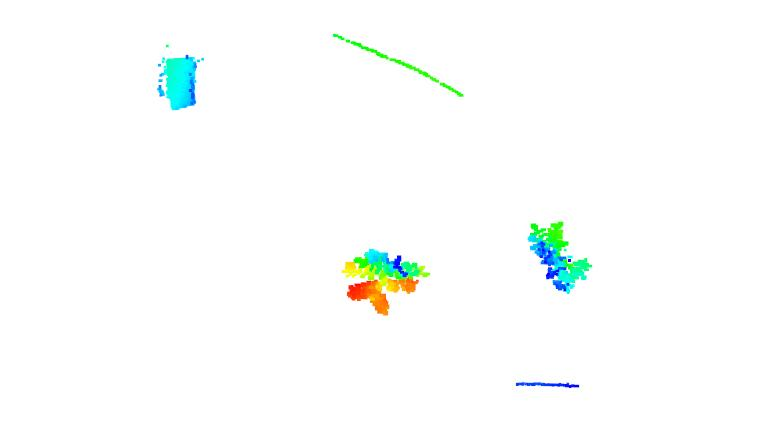chickpea: (340, 249, 427, 318), (528, 217, 594, 299)
